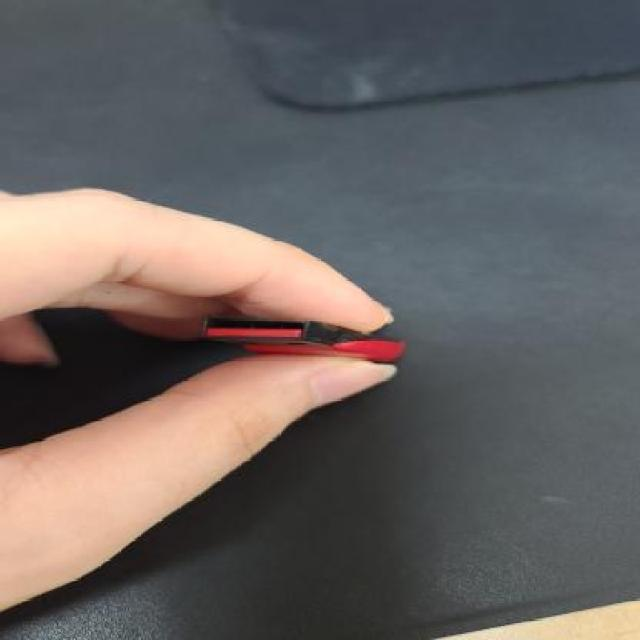Flashdisk: (199, 313, 406, 361)
